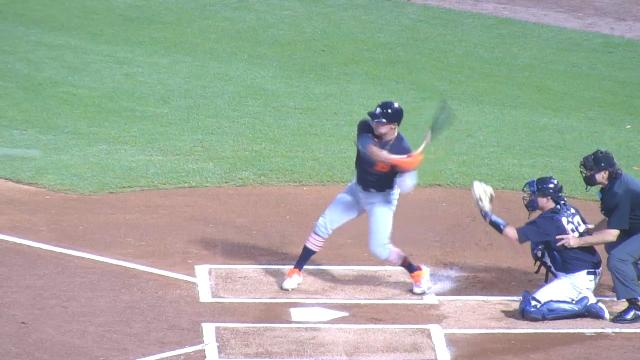baseball bat: (419, 100, 457, 152)
